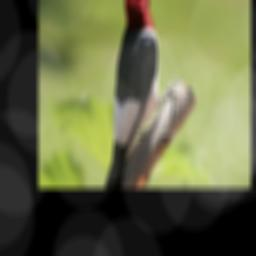Woodpecker: (102, 0, 169, 188)
